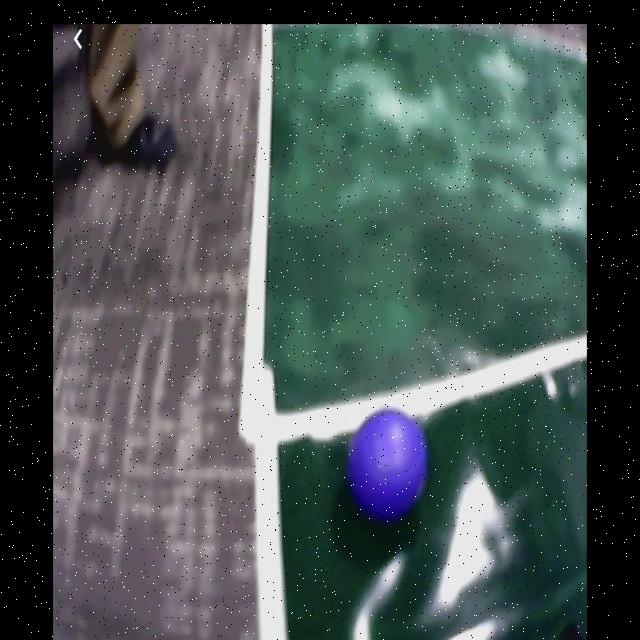ball: (352, 408, 426, 517)
